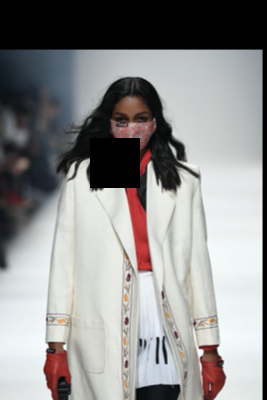with_mask: (108, 107, 157, 153)
